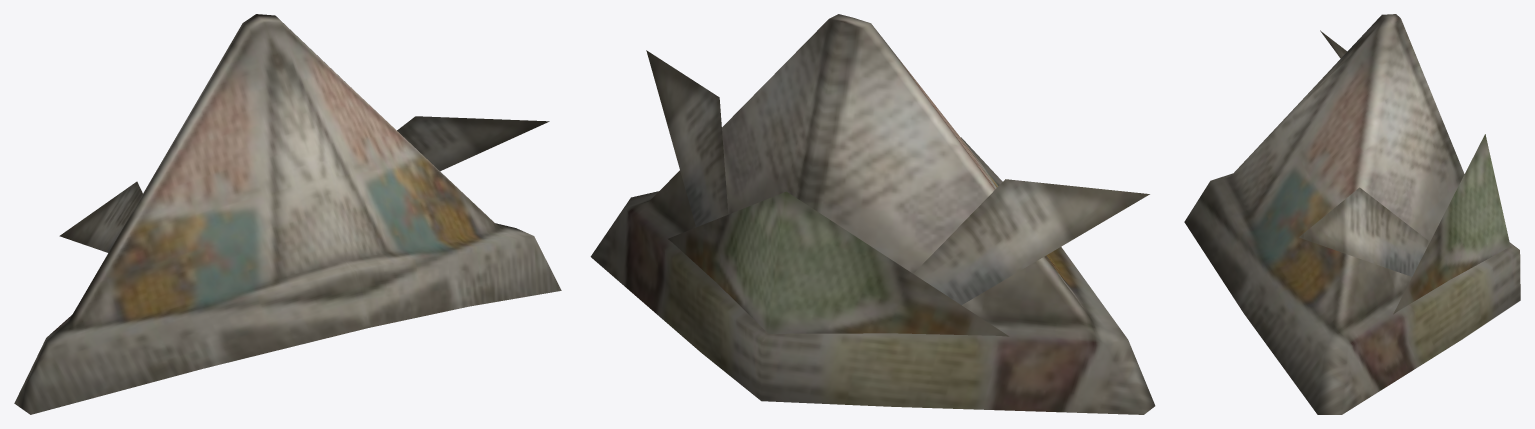
Rendered from paperHat.glb.
3 renders of one model, left to right at view 1: azimuth 30°, elevation 25°; view 2: azimuth 150°, elevation 25°; view 3: azimuth 270°, elevation 25°, orthographic. The views are drawn at different scales.
Parts seen in each view (by area): view 1: paperHat; view 2: paperHat; view 3: paperHat.
Boxes of the visible parts, <box> form: paperHat: <box>14,14,561,414</box>; paperHat: <box>590,14,1155,414</box>; paperHat: <box>1184,14,1520,414</box>.
Bounding box in the file's own units: 0.5481 × 0.3139 × 0.3324.
Materials: 1 (1 with a texture image).
